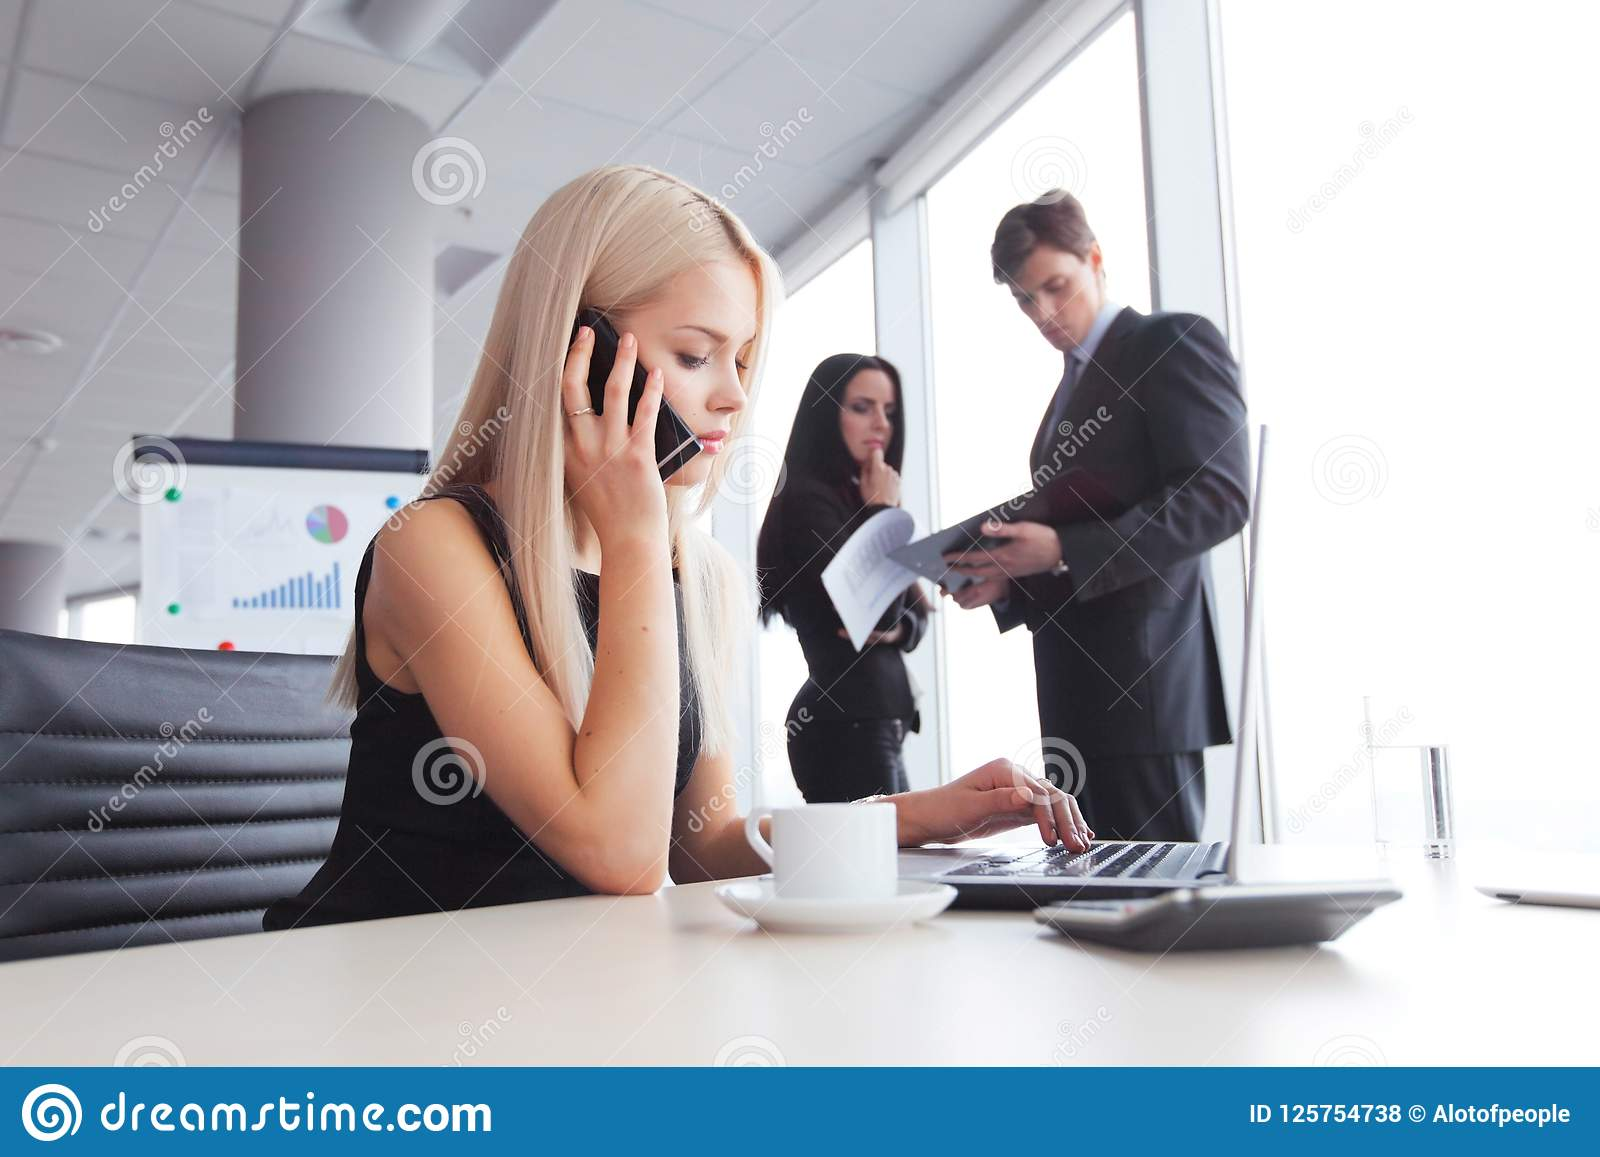phone: (560, 304, 706, 491)
talk: (561, 303, 757, 558)
